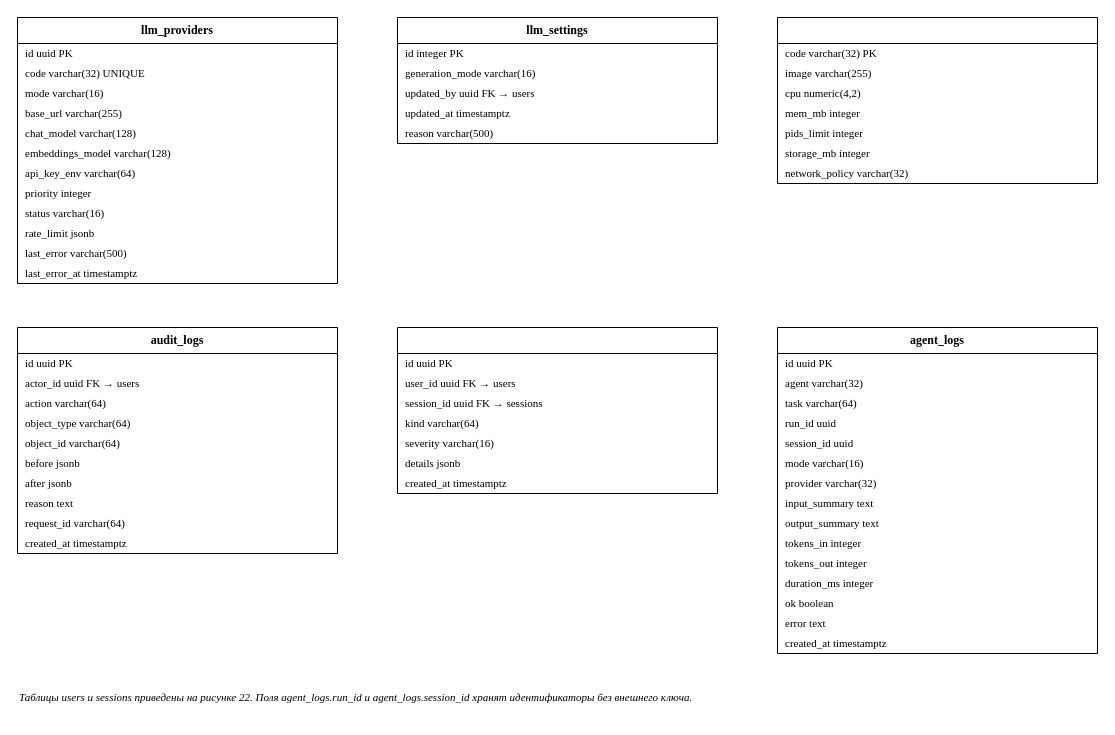
Some shapes in this 1115 by 735 pixel diagram are drawn without their labels. The box of each missing label's shape, as (x1, y1, x2, y2) in pixels:
sandbox_profiles: (776, 16, 1098, 184)
security_events: (396, 326, 718, 494)
